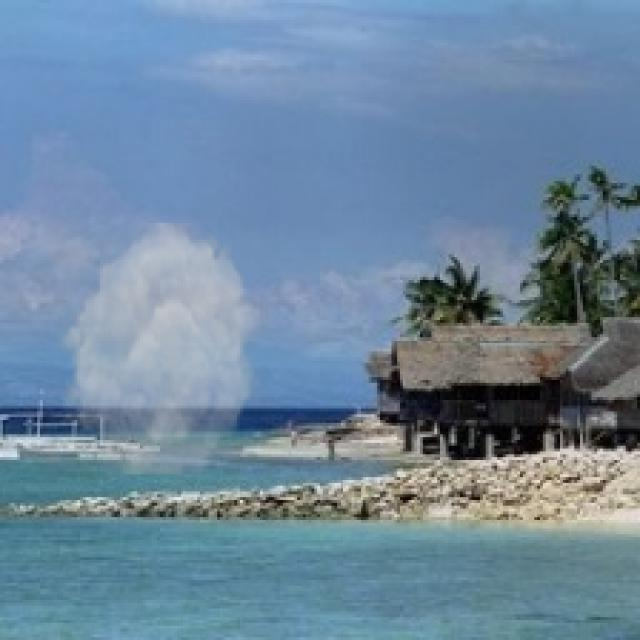smoke: (54, 223, 269, 474)
